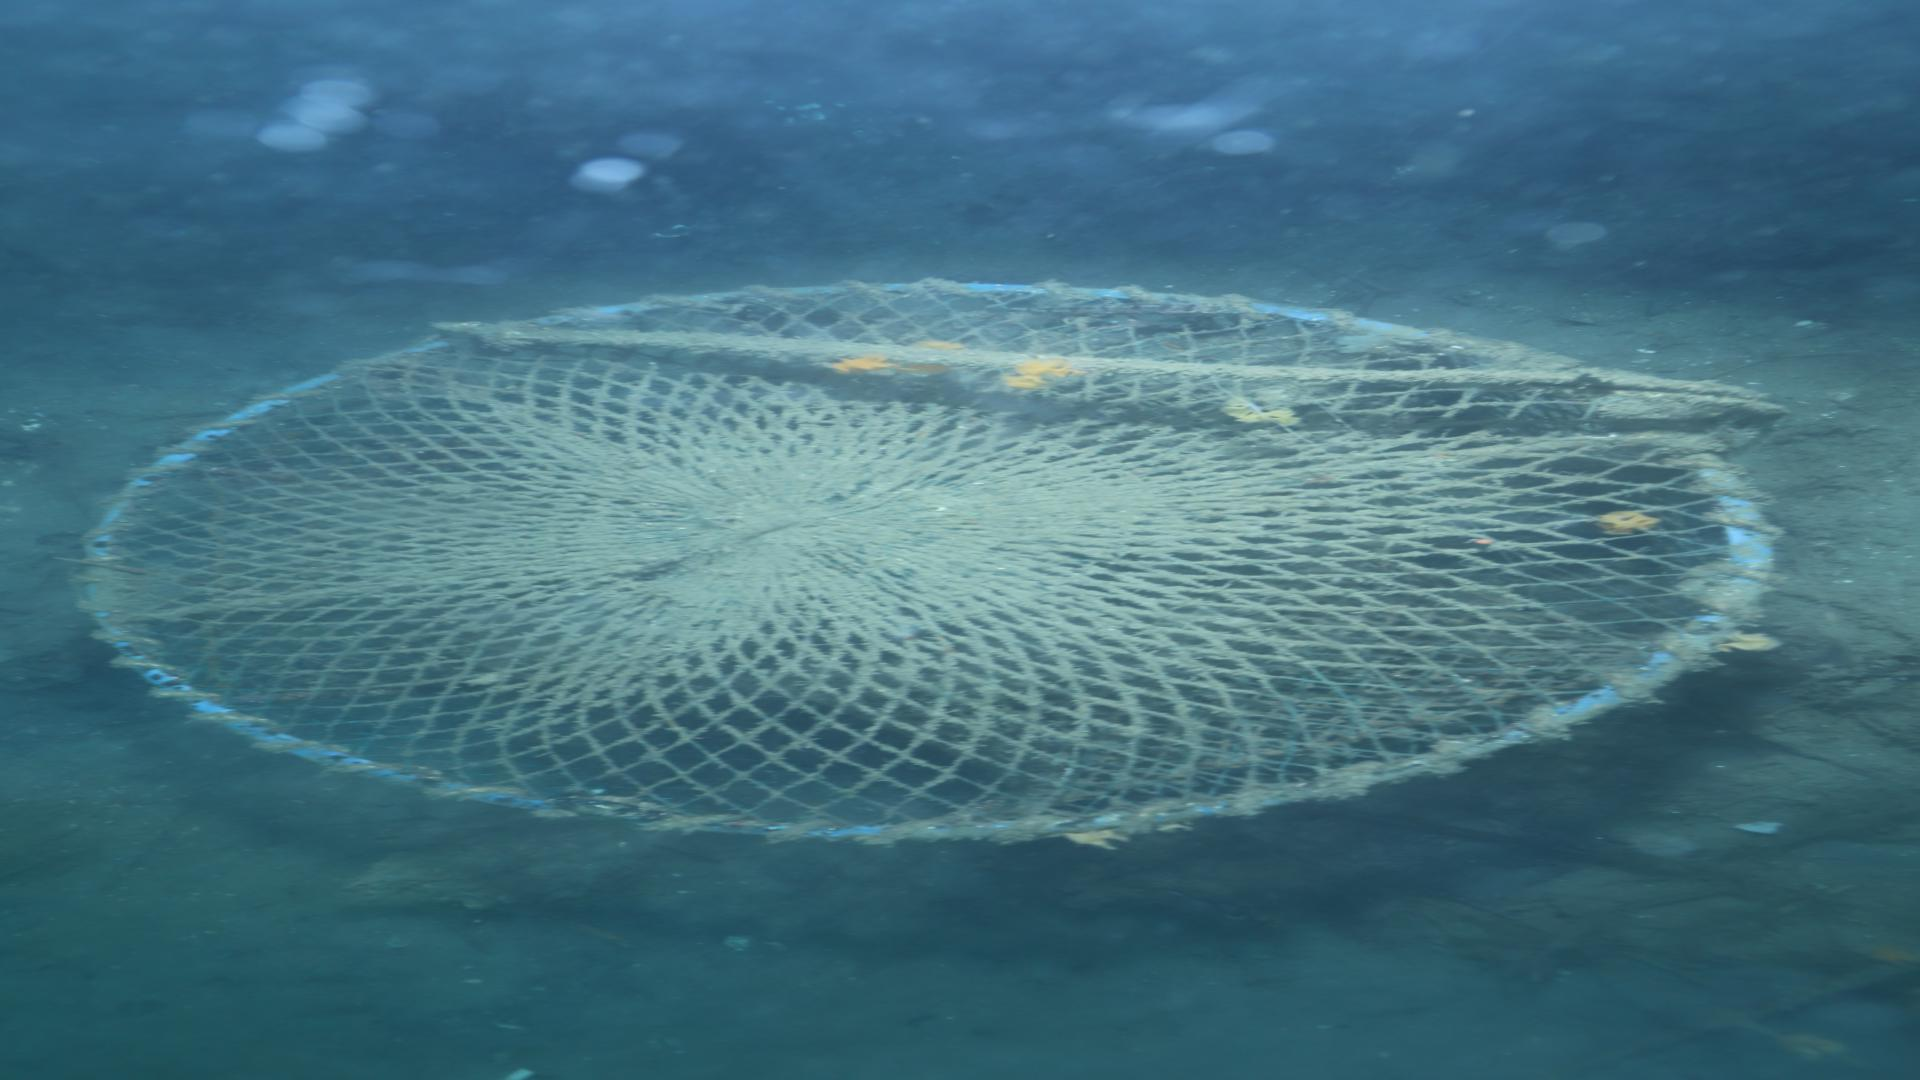circular fish trap: (82, 276, 1779, 837)
rope: (382, 251, 1808, 433)
